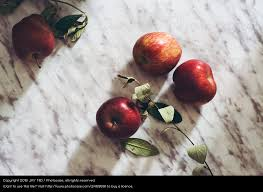apple: (170, 62, 220, 105), (131, 32, 182, 74), (12, 17, 56, 62), (93, 99, 144, 137)
